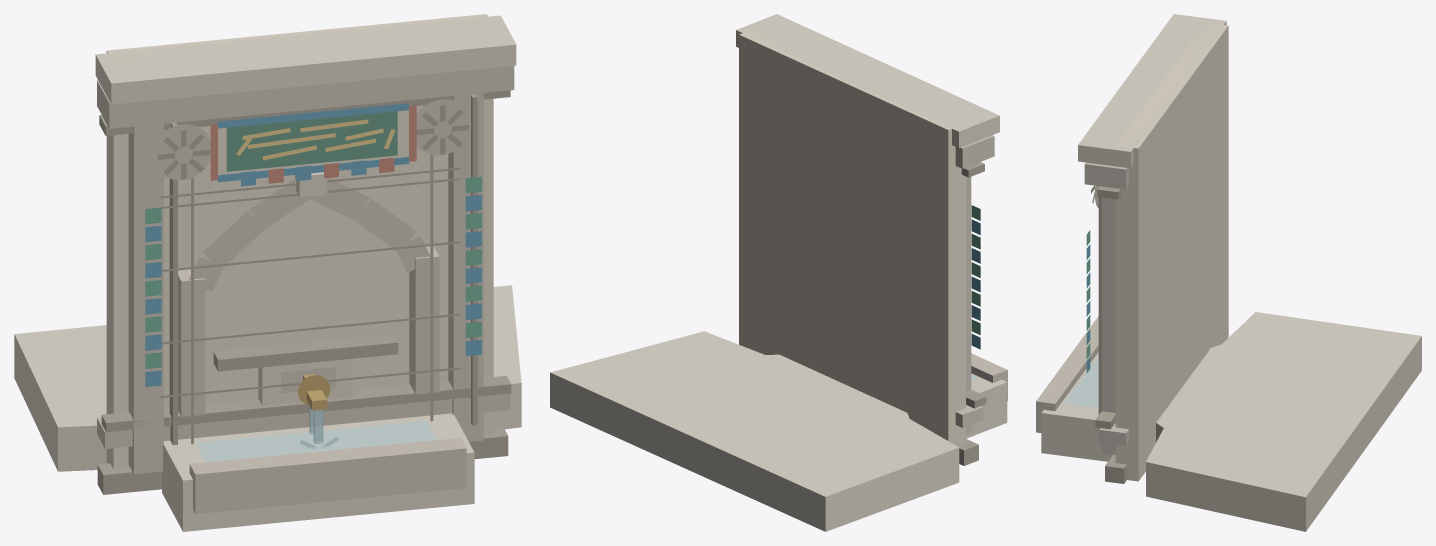
3 renders of one model, left to right at view 1: azimuth 30°, elevation 25°; view 2: azimuth 150°, elevation 25°; view 3: azimuth 270°, elevation 25°, orthographic. The views are drawn at different scales.
Visible parts, largest first — view 1: W-39/2; view 2: W-39/2; view 3: W-39/2.
Part boxes in pixels (box(x1,y1,x2,y2)): W-39/2: box(14, 14, 521, 531); W-39/2: box(550, 14, 1007, 531); W-39/2: box(1036, 14, 1421, 531).
Bounding box in the file's own units: 4.36 × 3.65 × 3.83.
